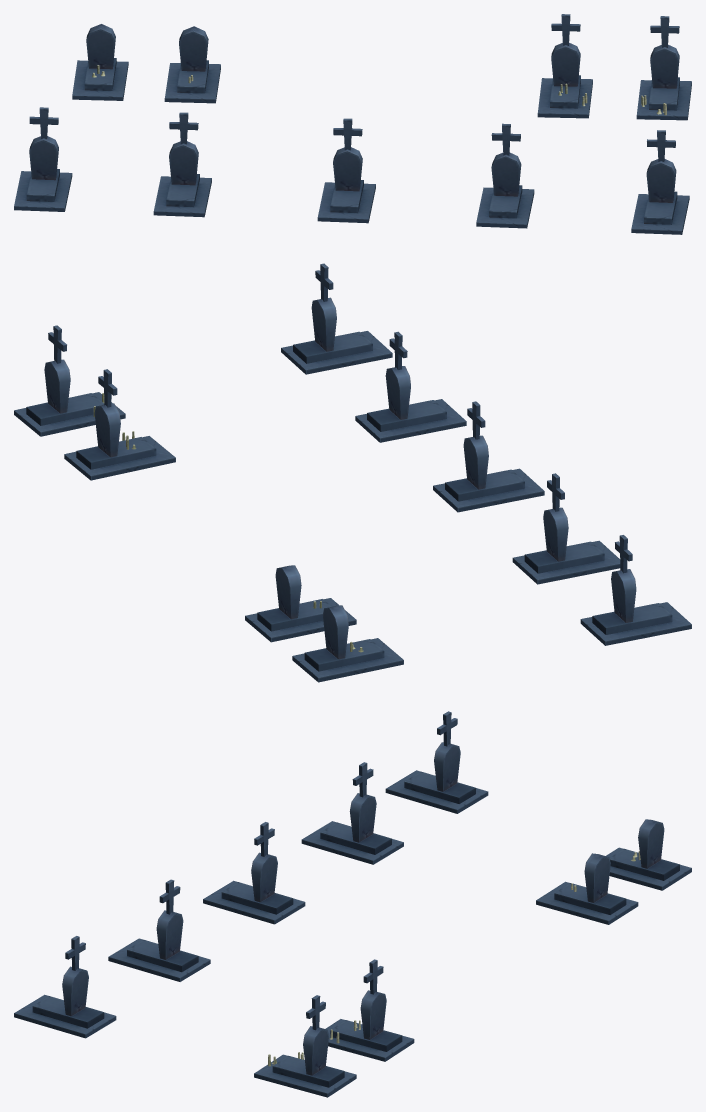
The model's file is wujian25.fbx.
3 views of the same model, one above another, from view 1: azimuth 30°, elevation 25°; view 2: azimuth 150°, elevation 25°; view 3: azimuth 270°, elevation 25° (orthographic). The views are drawn at different scales.
Visible parts, largest first — view 1: wujian25; view 2: wujian25; view 3: wujian25.
Boxes of the visible parts, x1,y1,x2,y2 form: wujian25: [14, 14, 691, 234]; wujian25: [14, 263, 691, 682]; wujian25: [14, 711, 691, 1097].
Bounding box in the file's own units: 3596 × 439 × 3175.
1 material, 1 textured.
